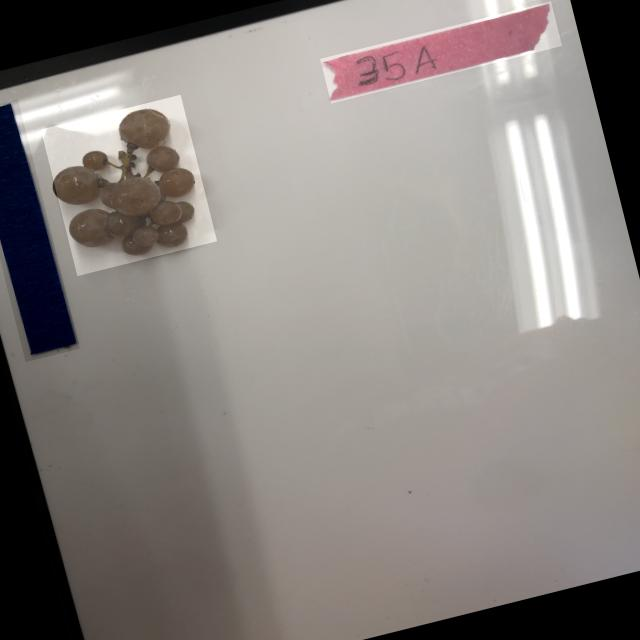grape_cluster: (40, 94, 216, 276)
index: (319, 1, 562, 103)
measure_label: (0, 98, 80, 361)
